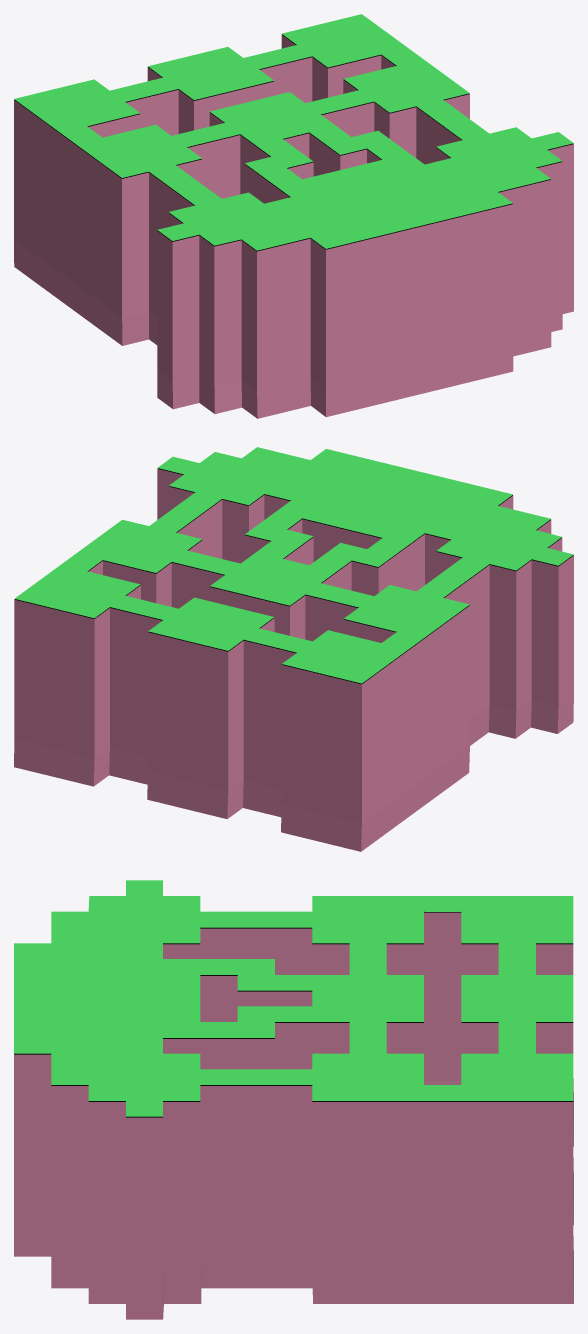
File: lvl3_cliffs-v2.glb
3 renders of one model, top to bottom at view 1: azimuth 30°, elevation 25°; view 2: azimuth 150°, elevation 25°; view 3: azimuth 270°, elevation 25°, orthographic. The views are drawn at different scales.
Visible parts, largest first — view 1: Terrain; view 2: Terrain; view 3: Terrain, Tile.021, Tile.028, Tile.029, Tile.056, Tile.077, Tile.078, Tile.081, Tile.099, Tile.106, Tile.109, Tile.111 (+124 smaller).
Part boxes in pixels (left/top/right/bottom): Terrain: left=14, top=34, right=573, bottom=418; Terrain: left=14, top=468, right=573, bottom=851; Terrain: left=14, top=911, right=573, bottom=1319; Tile.021: left=51, top=927, right=88, bottom=943; Tile.028: left=312, top=911, right=349, bottom=927; Tile.029: left=312, top=927, right=349, bottom=943; Tile.056: left=312, top=1053, right=349, bottom=1069; Tile.077: left=461, top=927, right=498, bottom=943; Tile.078: left=461, top=911, right=498, bottom=927; Tile.081: left=461, top=1053, right=498, bottom=1069; Tile.099: left=51, top=911, right=88, bottom=927; Tile.106: left=200, top=911, right=237, bottom=927; Tile.109: left=51, top=990, right=88, bottom=1006; Tile.111: left=312, top=990, right=349, bottom=1006.
Bounding box in the file's own units: 15 × 6.01 × 15.02.
